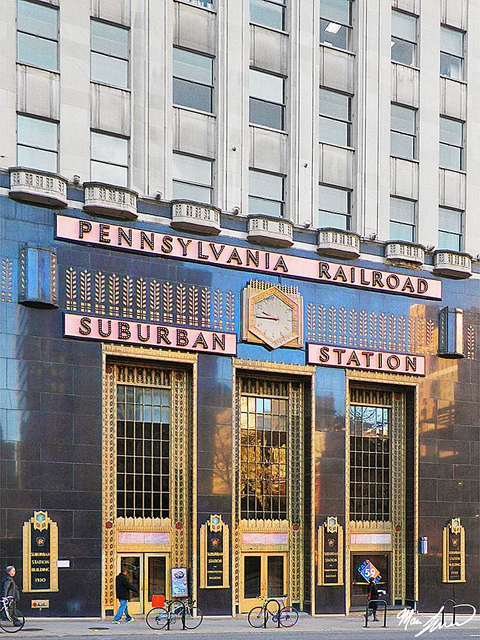non-vehicle: (146, 598, 203, 630), (248, 594, 300, 629), (0, 595, 25, 633)
